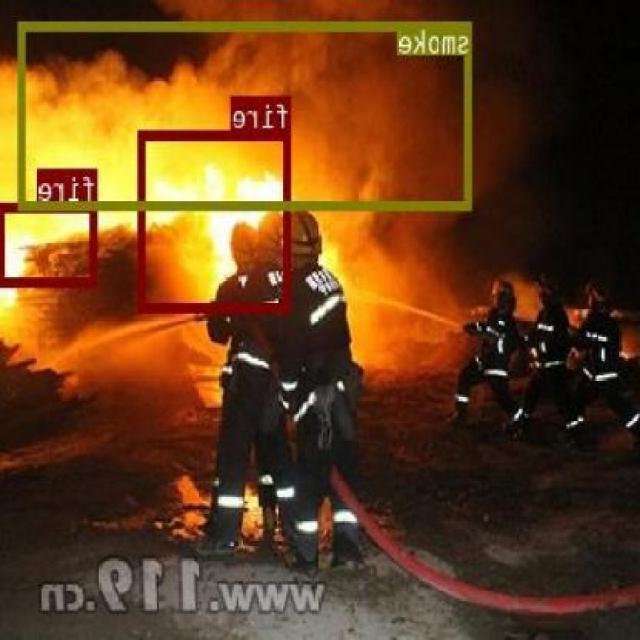Fire: (9, 144, 314, 342)
Smoke: (4, 0, 494, 205)
